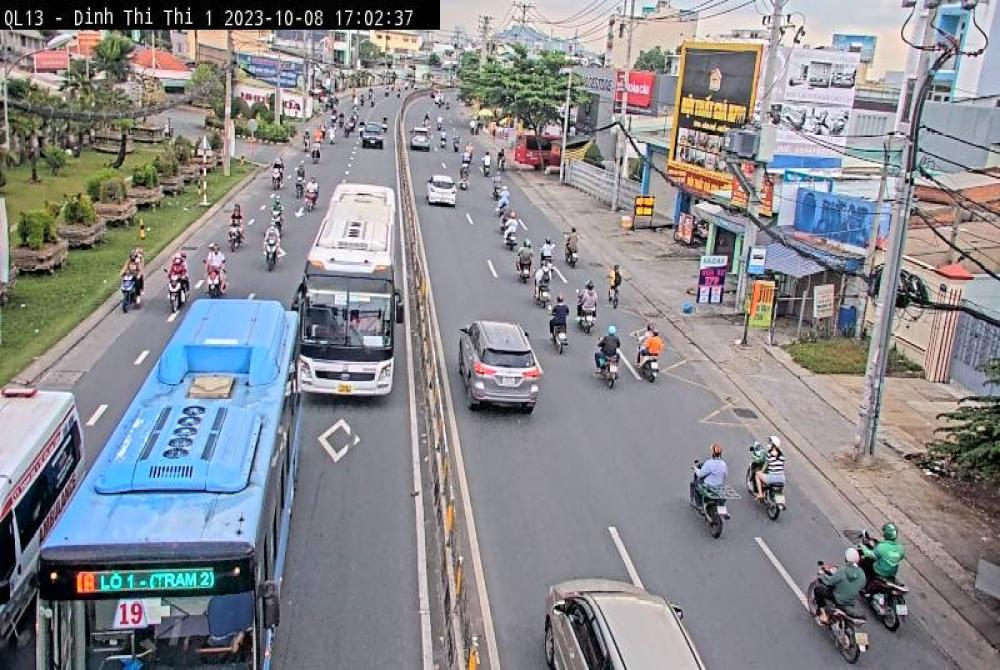bus: (34, 290, 300, 644), (301, 167, 408, 419)
car: (0, 368, 98, 658), (530, 567, 690, 670), (446, 298, 546, 446), (426, 167, 460, 230), (360, 118, 396, 162), (408, 116, 424, 172)
